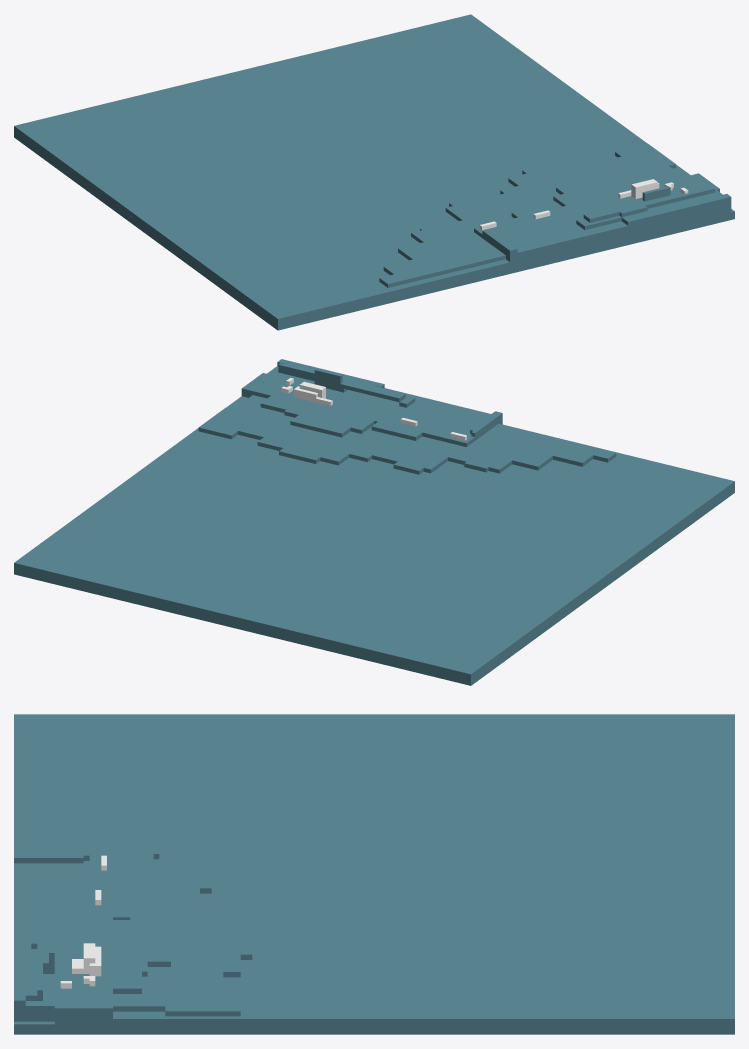
File: sea2.fbx
The picture shows the model from 3 angles, top to bottom: view 1: azimuth 30°, elevation 25°; view 2: azimuth 150°, elevation 25°; view 3: azimuth 270°, elevation 25°; orthographic projection. The views are drawn at different scales.
Visible parts, largest first — view 1: 对象; view 2: 对象; view 3: 对象.
Boxes of the visible parts, box(x1,y1,x2,y2) form: 对象: box(14, 14, 734, 330); 对象: box(14, 359, 734, 685); 对象: box(14, 714, 734, 1034).
Bounding box in the file's own units: 124 × 9 × 124.
1 material, 1 textured.
